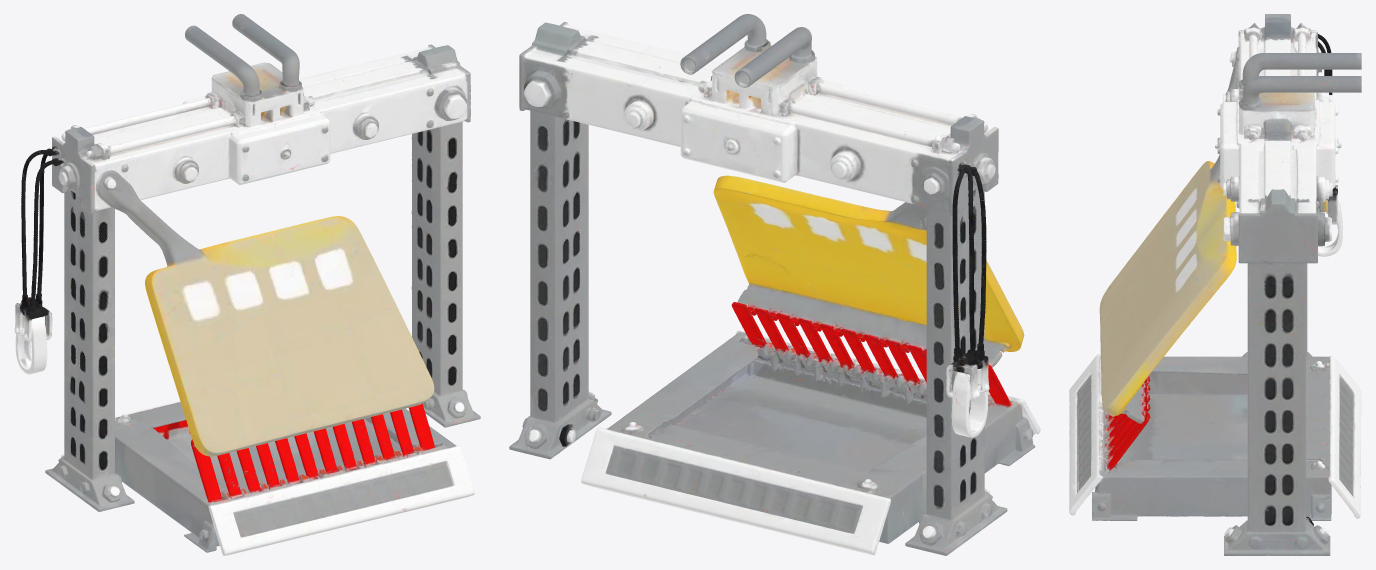
Rendered from spatula_press.glb.
3 views of the same model, side by side, from view 1: azimuth 30°, elevation 25°; view 2: azimuth 150°, elevation 25°; view 3: azimuth 270°, elevation 25° (orthographic). The views are drawn at different scales.
Bounding box in the file's own units: 1.9 × 1.76 × 1.17.
Materials: 1 (1 with a texture image).
